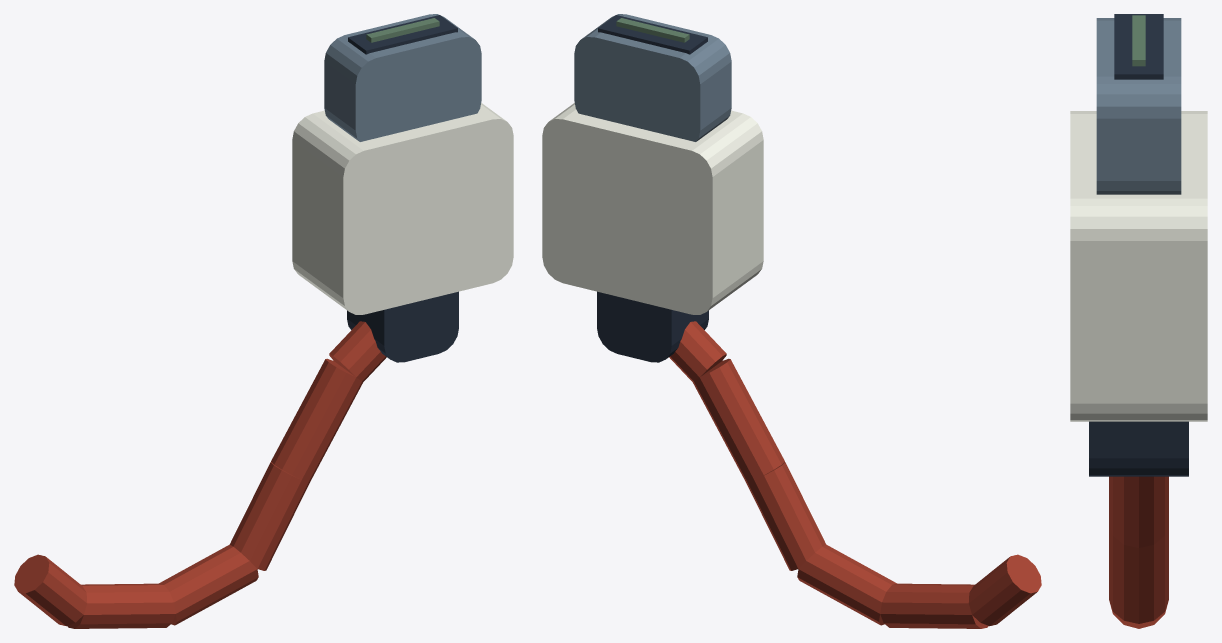
The model's file is usbc.glb.
3 renders of one model, left to right at view 1: azimuth 30°, elevation 25°; view 2: azimuth 150°, elevation 25°; view 3: azimuth 270°, elevation 25°, orthographic. The views are drawn at different scales.
Visible parts, largest first — view 1: plug sleeve, metal plug, rubber cable4, strain relief, rubber cable3, rubber cable1, rubber cable2, rubber cable0, rubber cable5, plug opening, contact tongue; view 2: plug sleeve, metal plug, rubber cable4, strain relief, rubber cable3, rubber cable1, rubber cable2, rubber cable0, rubber cable5, plug opening, contact tongue; view 3: plug sleeve, metal plug, strain relief, rubber cable3, rubber cable4, plug opening, contact tongue, rubber cable2.
Part boxes in pixels (left/top/right/bottom): plug sleeve: left=292, top=103, right=513, bottom=314; metal plug: left=324, top=14, right=481, bottom=141; rubber cable4: left=271, top=358, right=362, bottom=481; strain relief: left=347, top=291, right=458, bottom=362; rubber cable3: left=230, top=462, right=309, bottom=570; rubber cable1: left=67, top=583, right=175, bottom=628; rubber cable2: left=159, top=544, right=258, bottom=625; rubber cable0: left=14, top=554, right=87, bottom=626; rubber cable5: left=329, top=321, right=386, bottom=381; plug opening: left=348, top=15, right=457, bottom=54; contact tongue: left=366, top=18, right=439, bottom=42; plug sleeve: left=542, top=103, right=763, bottom=314; metal plug: left=574, top=14, right=731, bottom=141; rubber cable4: left=693, top=358, right=784, bottom=481; strain relief: left=597, top=291, right=708, bottom=362; rubber cable3: left=746, top=462, right=825, bottom=570; rubber cable1: left=880, top=583, right=988, bottom=628; rubber cable2: left=797, top=544, right=896, bottom=625; rubber cable0: left=968, top=554, right=1041, bottom=626; rubber cable5: left=669, top=321, right=726, bottom=381; plug opening: left=598, top=15, right=707, bottom=54; contact tongue: left=616, top=18, right=689, bottom=42; plug sleeve: left=1070, top=111, right=1207, bottom=421; metal plug: left=1096, top=18, right=1181, bottom=194; strain relief: left=1089, top=421, right=1188, bottom=476; rubber cable3: left=1109, top=524, right=1168, bottom=623; rubber cable4: left=1109, top=476, right=1168, bottom=547; plug opening: left=1114, top=14, right=1163, bottom=79; contact tongue: left=1132, top=15, right=1145, bottom=66; rubber cable2: left=1109, top=602, right=1168, bottom=628.
Bounding box in the file's own units: 1.38 × 1.51 × 0.26.
